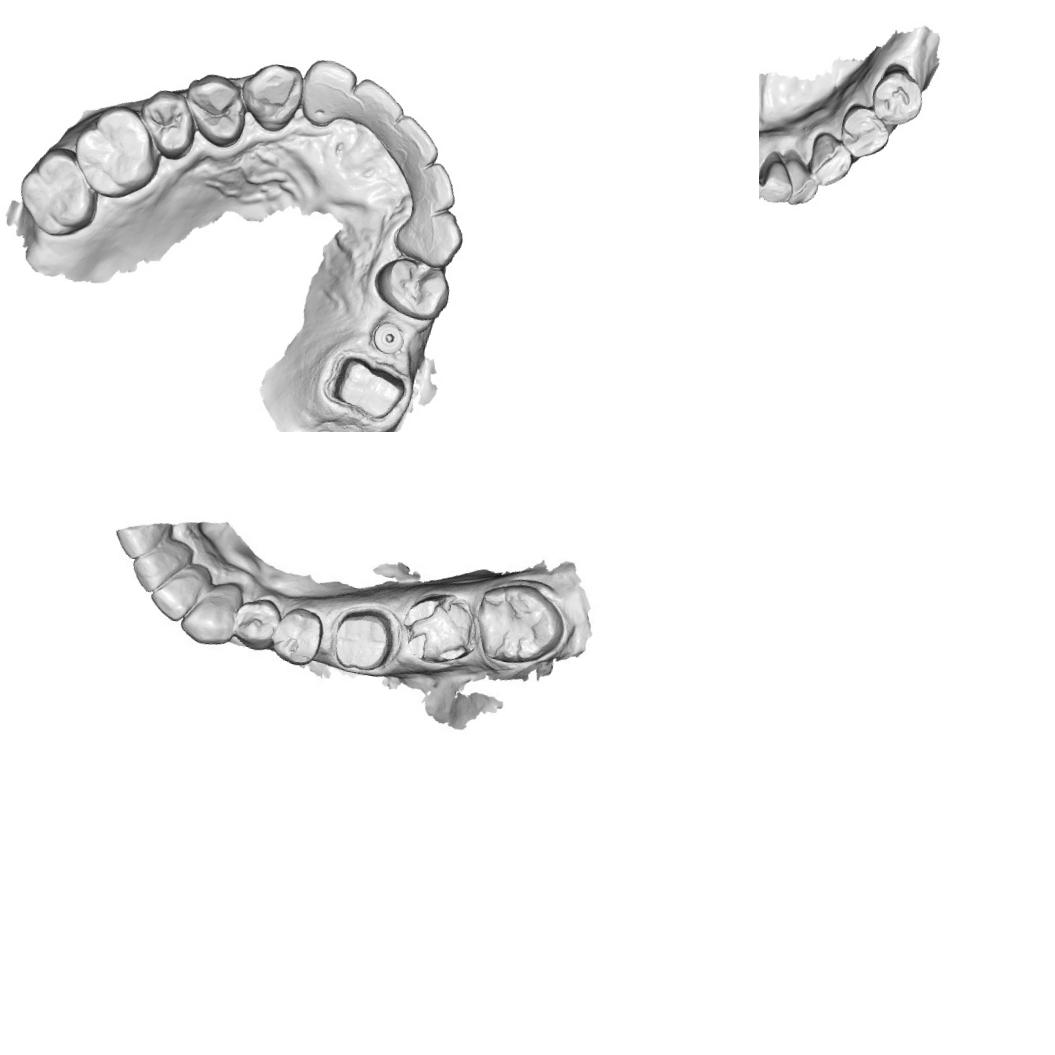canine: (232, 54, 306, 139), (386, 200, 470, 270), (804, 128, 856, 190)
crown: (321, 350, 412, 426), (329, 609, 395, 672)
implant: (368, 314, 412, 360)
incisor: (372, 108, 447, 180), (296, 53, 358, 130), (396, 153, 464, 217), (179, 583, 248, 646), (346, 75, 410, 138), (149, 562, 207, 628), (126, 536, 188, 591), (779, 156, 822, 209), (759, 156, 797, 206)
molar: (63, 95, 169, 206), (9, 139, 103, 244), (472, 580, 564, 666)
premolar: (173, 63, 254, 152), (366, 252, 456, 327), (133, 82, 203, 164), (866, 62, 928, 130), (835, 100, 894, 163), (230, 592, 284, 649), (270, 608, 323, 660)
